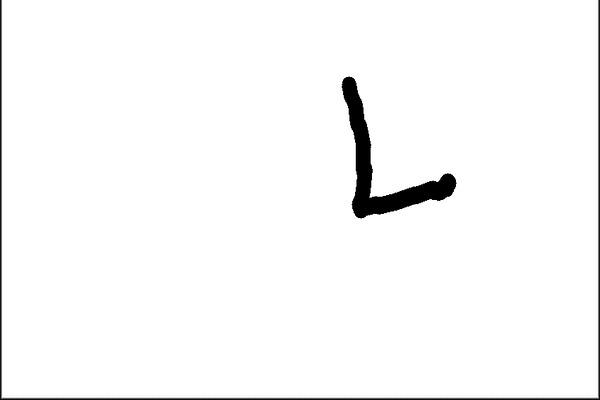L: (334, 67, 462, 226)
